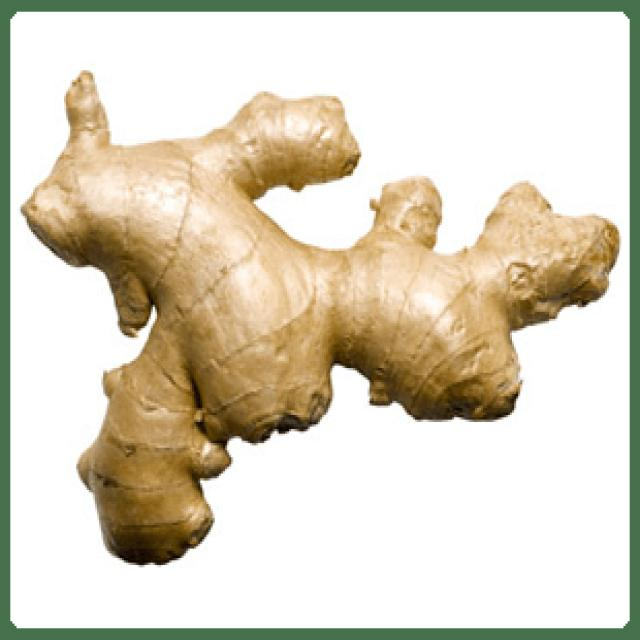ginger-root: (14, 43, 629, 572)
